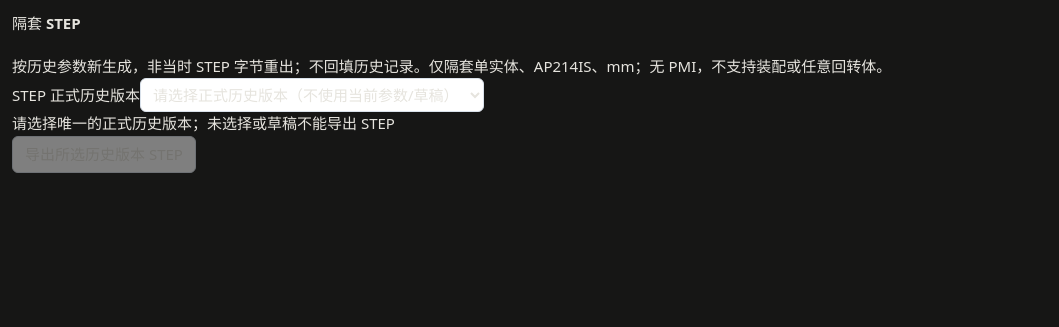
Test: historical STEP UI › requires explicit selection and exports only exact historical identity, then shows receipt
Expected: the button "导出所选历史版本 STEP" is disabled, [12,136,196,173]
Select "第 1 版" in the dropdown labelled "STEP 正式历史版本": coordinates (312, 95) [140,78,484,112]
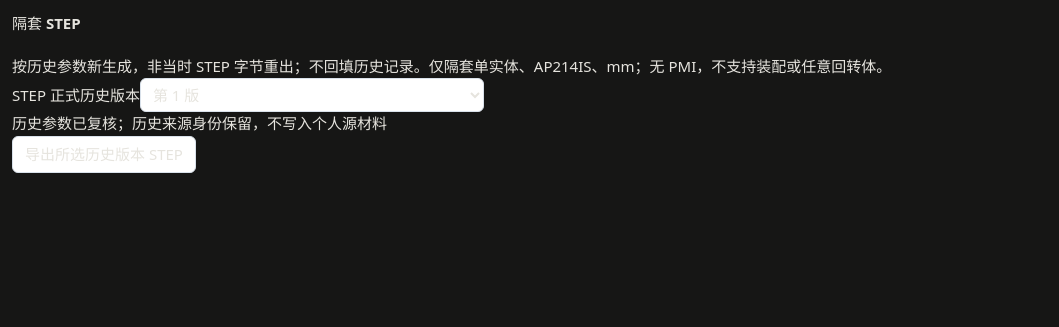
Click the button "导出所选历史版本 STEP": coordinates (104, 154) [12,136,196,173]
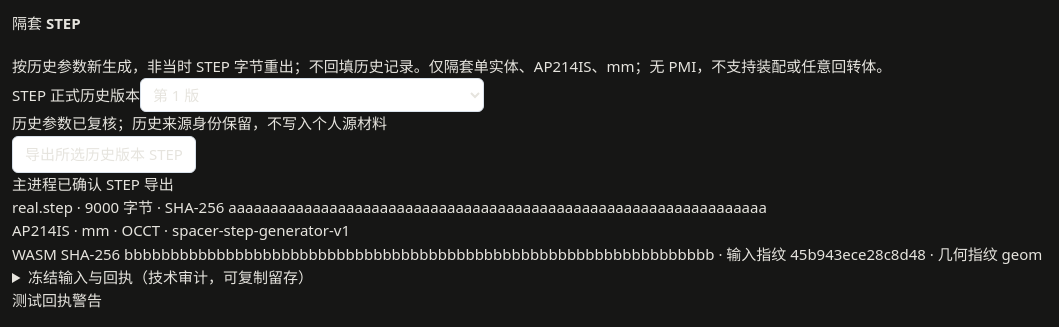
Expected: the text "非当时 STEP 字节重出" is shown, [12,56,891,76]
Expected: the text "real.step" is shown, [12,197,73,217]
Expected: the text "测试回执警告" is shown, [12,290,102,310]
